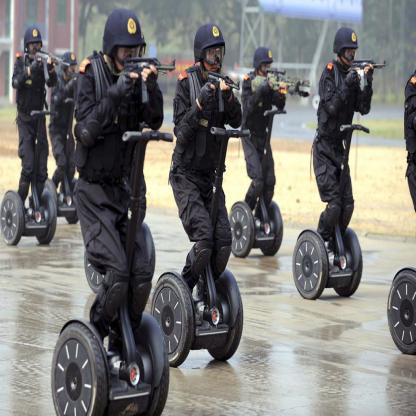face: (116, 32, 139, 75), (204, 41, 222, 74), (344, 42, 356, 67), (30, 38, 42, 58), (261, 59, 271, 78), (68, 60, 76, 78)
